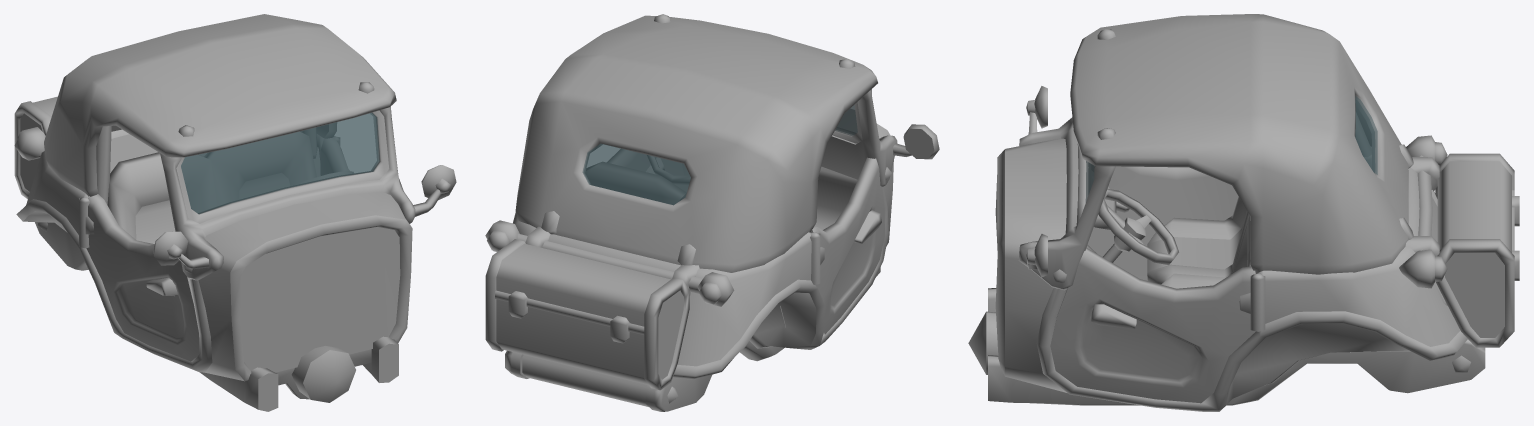
File: Body_Goblin.fbx
The picture shows the model from 3 angles, left to right: view 1: azimuth 30°, elevation 25°; view 2: azimuth 150°, elevation 25°; view 3: azimuth 270°, elevation 25°; orthographic projection. The views are drawn at different scales.
Visible parts, largest first — view 1: Goblin_Body_Mesh, Goblin_Body_Roof_Mesh, Goblin_Body_Window_Mesh, Goblin_Body_Door_Right_Mesh, Goblin_Body_Box_Rear_Mesh, Goblin_Body_Door_Left_Mesh; view 2: Goblin_Body_Roof_Mesh, Goblin_Body_Mesh, Goblin_Body_Box_Rear_Mesh, Goblin_Body_Door_Right_Mesh, Goblin_Body_Roof_Window_Mesh, Goblin_Body_Door_Left_Mesh, Goblin_Body_Window_Mesh; view 3: Goblin_Body_Mesh, Goblin_Body_Roof_Mesh, Goblin_Body_Door_Left_Mesh, Goblin_Body_Box_Rear_Mesh, Goblin_Body_Door_Right_Mesh, Goblin_Body_SteerWheel_Mesh, Goblin_Body_Roof_Window_Mesh.
Part boxes in pixels (<box>): Goblin_Body_Mesh: <box>14,106,456,411</box>; Goblin_Body_Roof_Mesh: <box>44,14,396,196</box>; Goblin_Body_Window_Mesh: <box>181,112,379,213</box>; Goblin_Body_Door_Right_Mesh: <box>85,194,200,361</box>; Goblin_Body_Box_Rear_Mesh: <box>14,96,57,199</box>; Goblin_Body_Door_Left_Mesh: <box>321,138,349,175</box>; Goblin_Body_Roof_Mesh: <box>515,14,877,272</box>; Goblin_Body_Mesh: <box>485,89,939,411</box>; Goblin_Body_Box_Rear_Mesh: <box>485,239,689,390</box>; Goblin_Body_Door_Right_Mesh: <box>810,157,884,334</box>; Goblin_Body_Roof_Window_Mesh: <box>582,143,690,205</box>; Goblin_Body_Door_Left_Mesh: <box>607,149,686,191</box>; Goblin_Body_Window_Mesh: <box>835,105,857,135</box>; Goblin_Body_Mesh: <box>968,86,1485,411</box>; Goblin_Body_Roof_Mesh: <box>1070,14,1413,274</box>; Goblin_Body_Door_Left_Mesh: <box>1050,247,1255,403</box>; Goblin_Body_Box_Rear_Mesh: <box>1435,153,1519,347</box>; Goblin_Body_Door_Right_Mesh: <box>1087,164,1238,280</box>; Goblin_Body_SteerWheel_Mesh: <box>1098,188,1178,265</box>; Goblin_Body_Roof_Window_Mesh: <box>1355,96,1377,174</box>.
Bounding box in the file's own units: 193 × 171 × 269.
